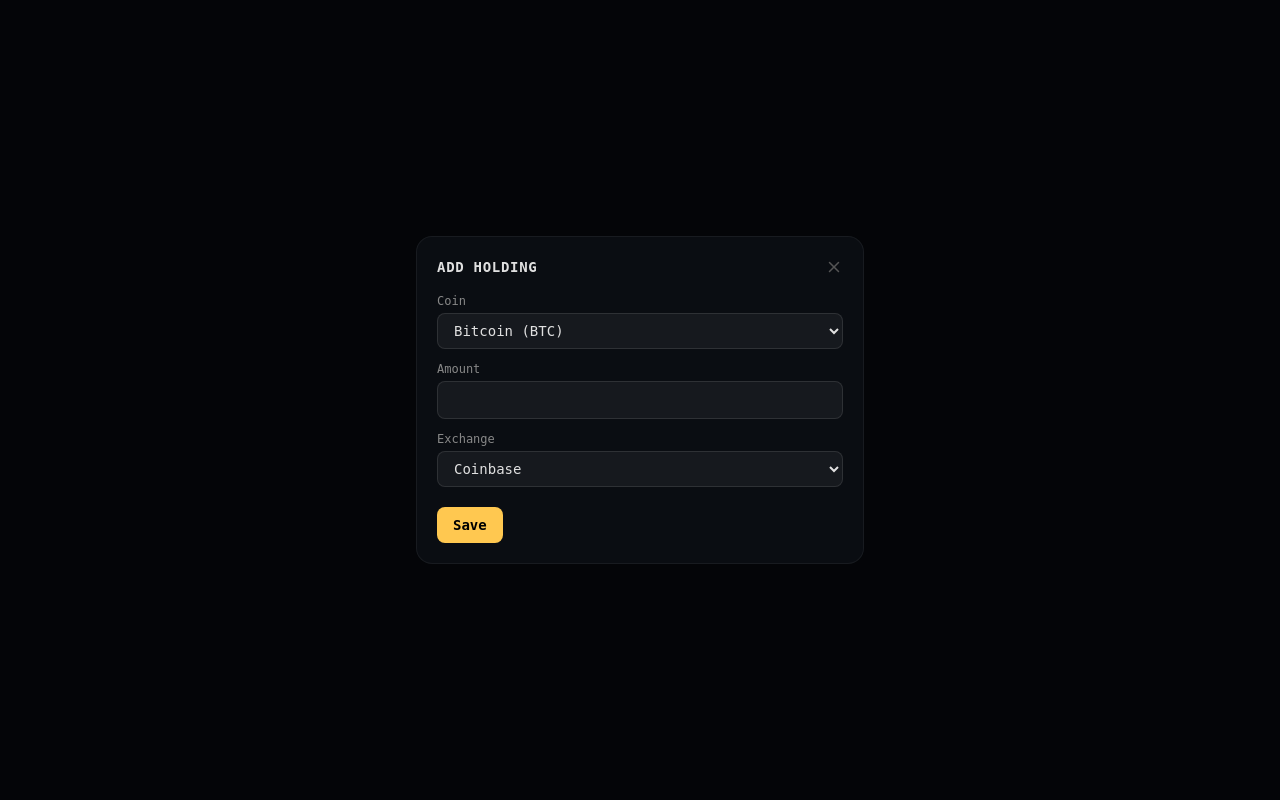
Test: AddHoldingModal › Cancel dismisses the custom-exchange form
Select "+ Add custom…" in the dropdown labelled "Exchange". click: (640,469)
box: [437, 451, 843, 487]
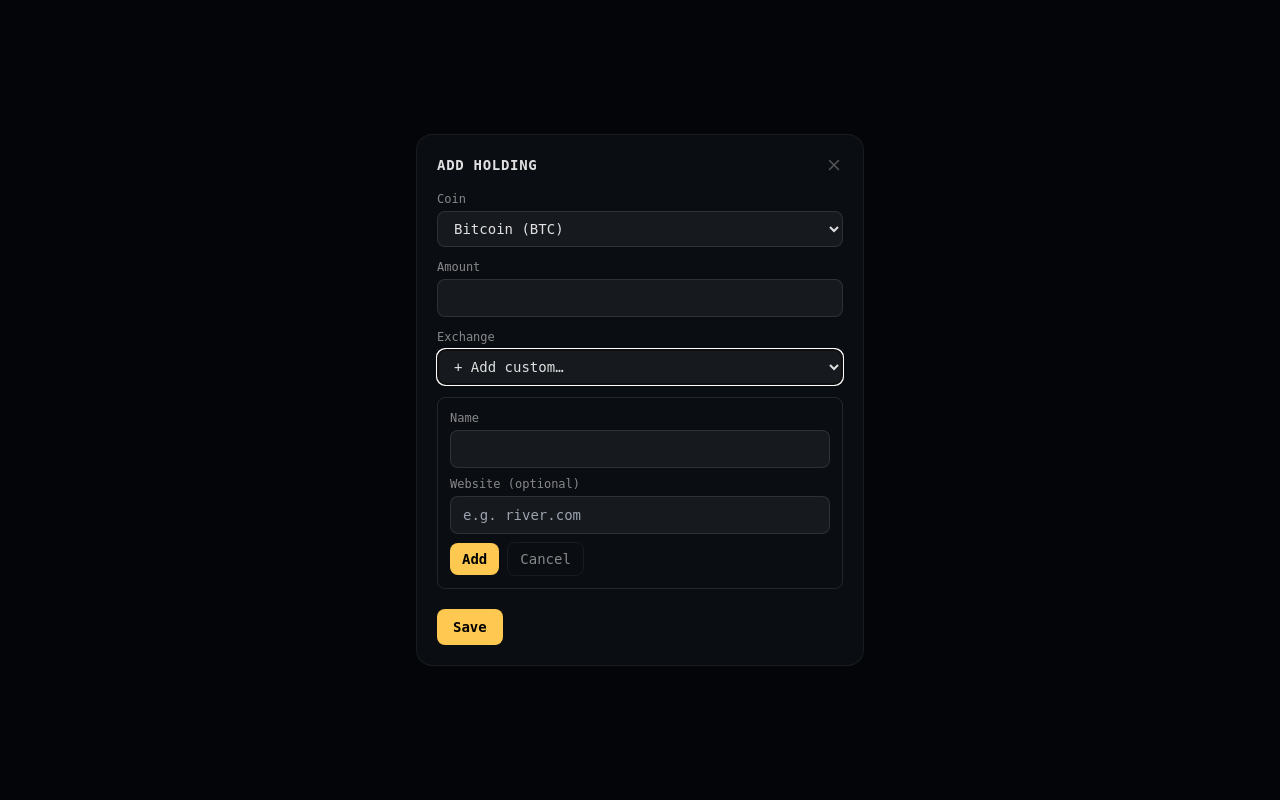
expect the field named "Custom exchange name" is shown: met, box [450, 430, 830, 468]
Click the button "Cancel". click: (546,559)
box: [507, 542, 584, 576]
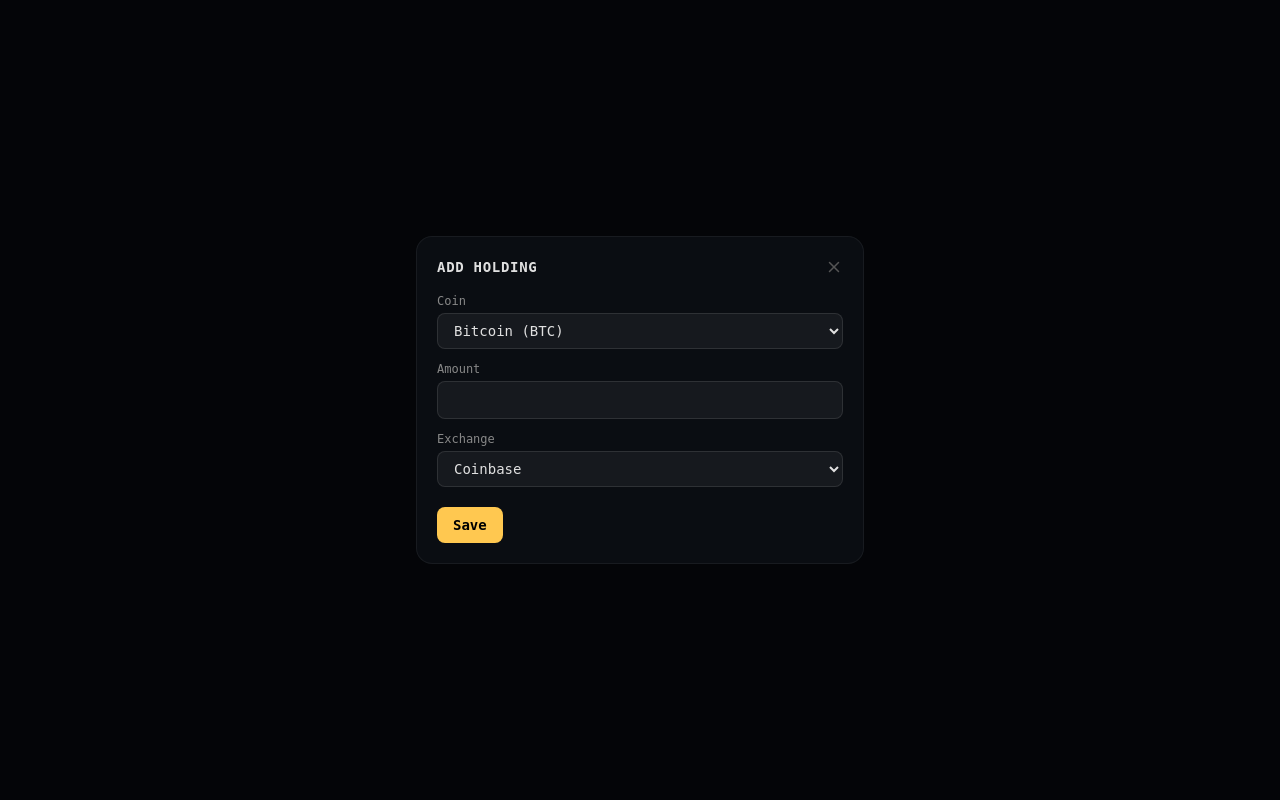
expect the field labelled "Custom exchange name" is gone: met
